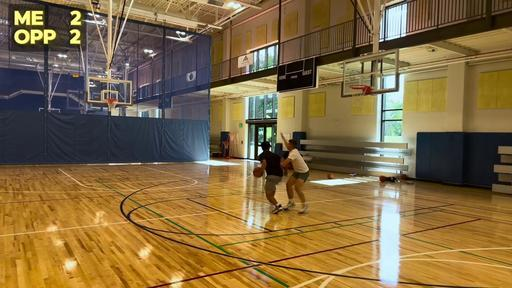ball: (254, 166, 264, 179), (327, 172, 334, 179)
human: (281, 132, 310, 214), (260, 141, 284, 214)
rim: (350, 84, 371, 102), (107, 98, 117, 111)
